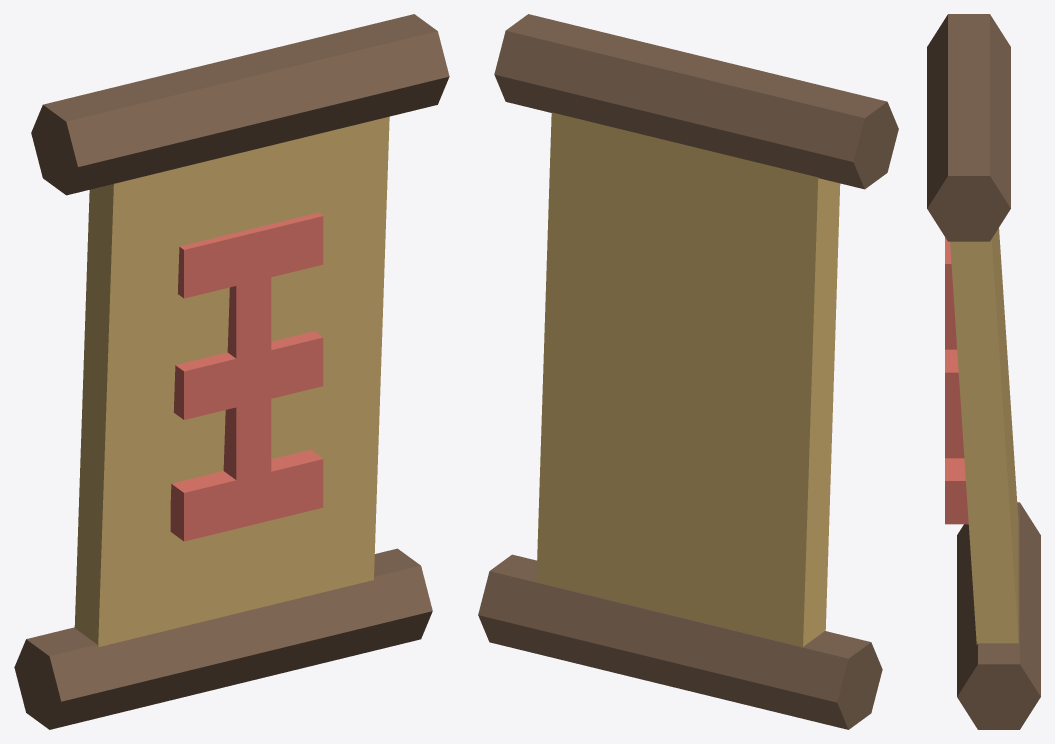
Rendered from LP_Item_V09.fbx.
3 views of the same model, side by side, from view 1: azimuth 30°, elevation 25°; view 2: azimuth 150°, elevation 25°; view 3: azimuth 270°, elevation 25° (orthographic). The views are drawn at different scales.
Parts seen in each view (by area): view 1: ArtifactMesh; view 2: ArtifactMesh; view 3: ArtifactMesh.
Boxes of the visible parts, box(x1,y1,x2,y2) form: ArtifactMesh: box(14, 14, 449, 729); ArtifactMesh: box(478, 14, 898, 729); ArtifactMesh: box(927, 14, 1040, 729).
Bounding box in the file's own units: 0.128 × 0.2042 × 0.038.
